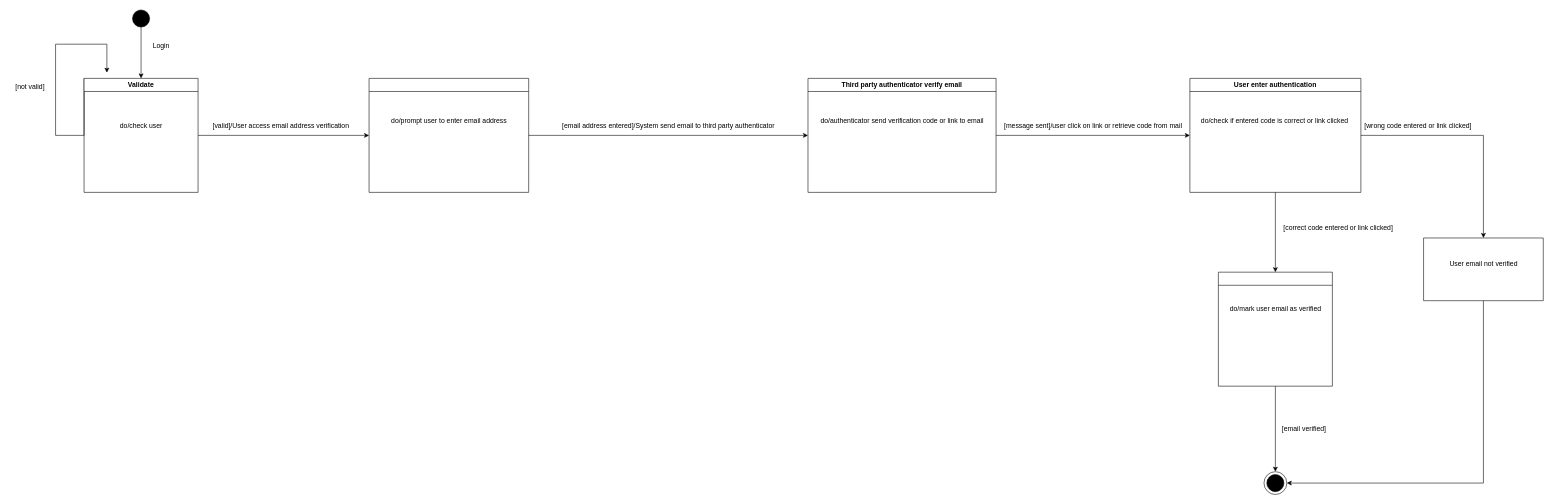
Some shapes in this 1553 by 504 pixel diagram are drawn without their labels. Here are the shapes that lost their labels. From the top down, the box of each, then its label:
(369, 78, 529, 192): Request email address
(1218, 272, 1332, 386): Complete authentication
